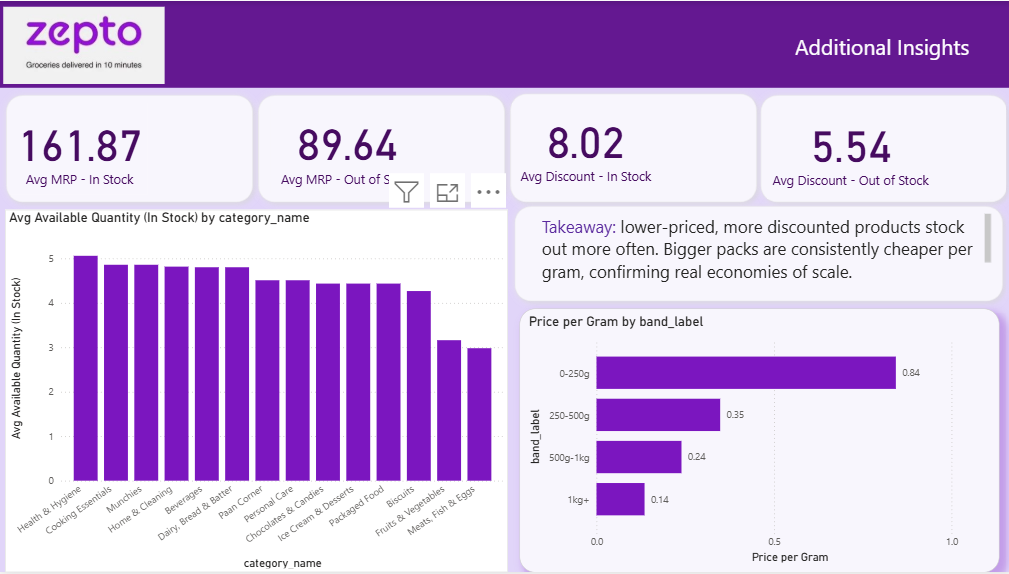

The page's visual inventory and layout, read from the dashboard file:
{"tool":"powerbi","page":{"name":"Additional Insights","canvas":[1280,720],"ordinal":5},"visuals":[{"type":"shape","box":[635,107.7,328.8,155],"z":0},{"type":"shape","box":[950.6,109.6,328.8,153.1],"z":1000},{"type":"shape","box":[317.5,109.6,328.8,153.1],"z":2000},{"type":"shape","box":[0,109.6,328.8,153.1],"z":3000},{"type":"shape","box":[0,0,1279.4,109.6],"z":4000},{"type":"textbox","box":[997.8,34,281.6,58.6],"z":5000},{"type":"image","box":[0,1.9,213.5,107.7],"z":6000},{"type":"card","fields":{"Values":["Fact_Products.Avg MRP - In Stock"]},"box":[15.1,128.5,172,115.3],"z":7000},{"type":"card","fields":{"Values":["Fact_Products.Avg MRP - Out of Stock"]},"box":[342,128.5,192.8,113.4],"z":8000},{"type":"clusteredBarChart","fields":{"Category":["Weight_Band.band_label"],"Y":["Fact_Products.Price per Gram"]},"box":[655.8,387.4,604.7,332.6],"z":9000},{"type":"shape","box":[640.6,249.5,633.1,138],"z":10000},{"type":"card","fields":{"Values":["Fact_Products.Avg Discount - In Stock"]},"box":[646.3,128.5,185.2,107.7],"z":11000},{"type":"card","fields":{"Values":["Fact_Products.Avg Discount - Out of Stock"]},"box":[967.6,124.7,209.8,124.7],"z":12000},{"type":"textbox","box":[678.4,262.7,576.4,96.4],"z":13000},{"type":"columnChart","fields":{"Category":["Category.category_name"],"Y":["Fact_Products.Avg Available Quantity (In Stock)"]},"box":[7.6,262.7,633.1,457.3],"z":14000}]}

Visuals, with their boxes in screenshot pixels (x1, y1, x2, y2), scaled from the page's 1280x720 canvas onto the 1009x574 screenshot:
shape: locate(501, 86, 760, 209)
shape: locate(749, 87, 1008, 209)
shape: locate(250, 87, 509, 209)
shape: locate(0, 87, 259, 209)
shape: locate(0, 0, 1008, 87)
textbox: locate(787, 27, 1008, 74)
image: locate(0, 2, 168, 87)
card - Fact_Products.Avg MRP - In Stock: locate(12, 102, 147, 194)
card - Fact_Products.Avg MRP - Out of Stock: locate(270, 102, 422, 193)
clusteredBarChart - Weight_Band.band_label x Fact_Products.Price per Gram: locate(517, 309, 994, 573)
shape: locate(505, 199, 1004, 309)
card - Fact_Products.Avg Discount - In Stock: locate(509, 102, 655, 188)
card - Fact_Products.Avg Discount - Out of Stock: locate(763, 99, 928, 199)
textbox: locate(535, 209, 989, 286)
columnChart - Category.category_name x Fact_Products.Avg Available Quantity (In Stock): locate(6, 209, 505, 573)
